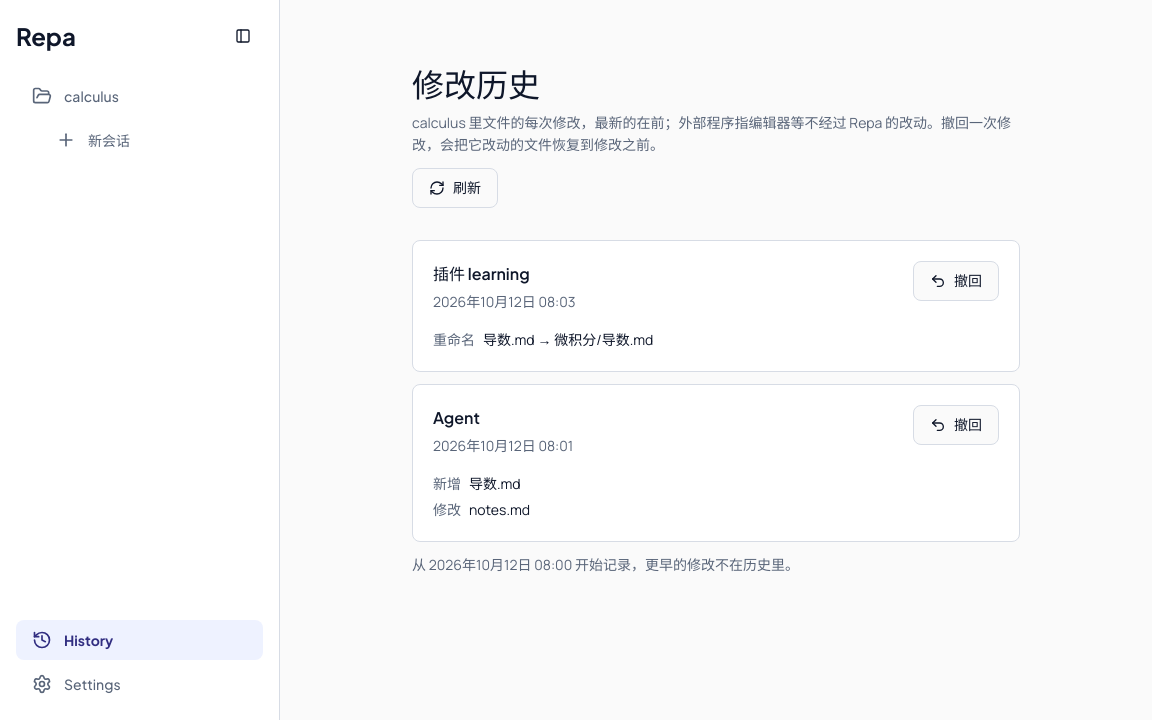
之后又有变化的文件不被覆盖，结果里列出没有撤回的文件
Click the 2nd button "撤回".
click(956, 425)  # box [913, 405, 999, 445]
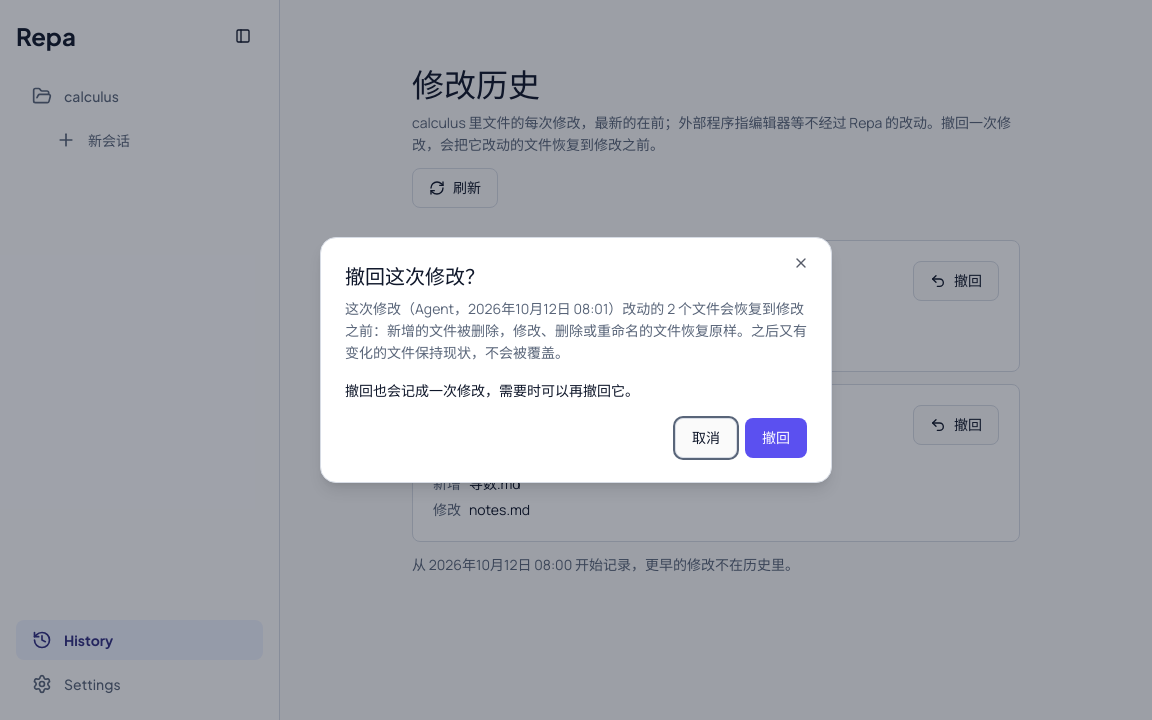
Click the button "撤回".
click(776, 438)  # box [745, 418, 807, 458]
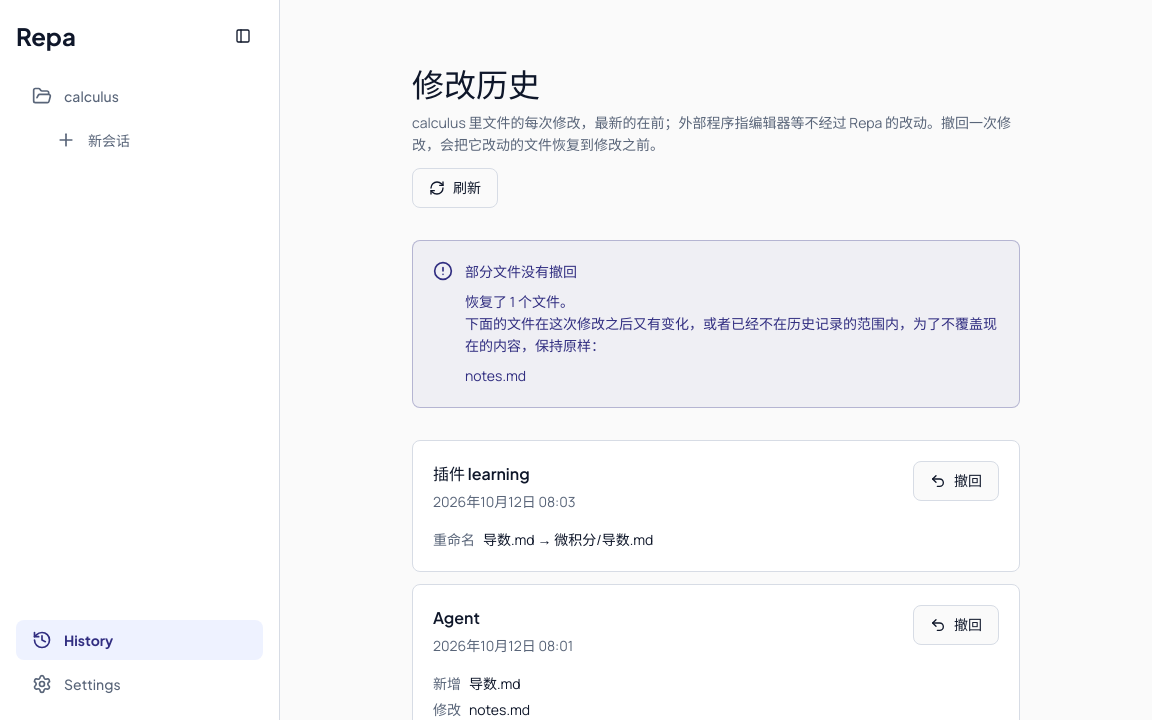
Now the message shows "部分文件没有撤回", box [465, 262, 577, 281]
Now the message shows "恢复了 1 个文件。", box [412, 240, 1020, 408]
Now the list items read "notes.md", in this order, box [465, 366, 526, 385]
